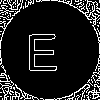E: (25, 25, 59, 71)
